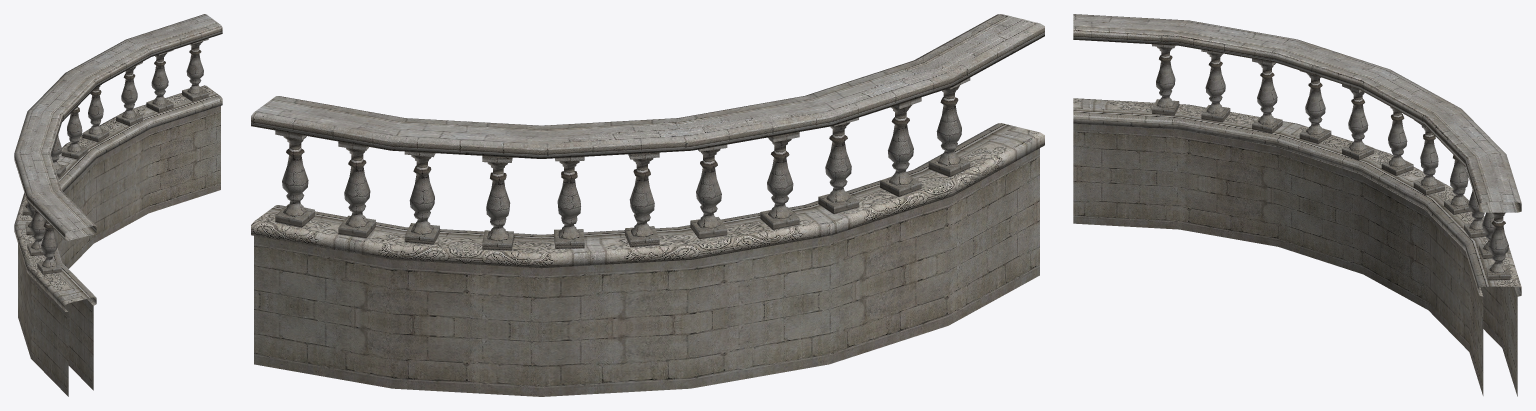
Rendered from CenterRound.fbx.
3 views of the same model, side by side, from view 1: azimuth 30°, elevation 25°; view 2: azimuth 150°, elevation 25°; view 3: azimuth 270°, elevation 25° (orthographic). The views are drawn at different scales.
Parts seen in each view (by area): view 1: LV_Campagna_City_MiddleSquare05_SM_KSR; view 2: LV_Campagna_City_MiddleSquare05_SM_KSR; view 3: LV_Campagna_City_MiddleSquare05_SM_KSR.
Boxes of the visible parts, x1,y1,x2,y2 form: LV_Campagna_City_MiddleSquare05_SM_KSR: (14,14,222,396); LV_Campagna_City_MiddleSquare05_SM_KSR: (251,14,1044,396); LV_Campagna_City_MiddleSquare05_SM_KSR: (1073,14,1521,396).
Bounding box in the file's own units: 1.58 × 0.7538 × 1.58.
2 materials, 2 textured.
